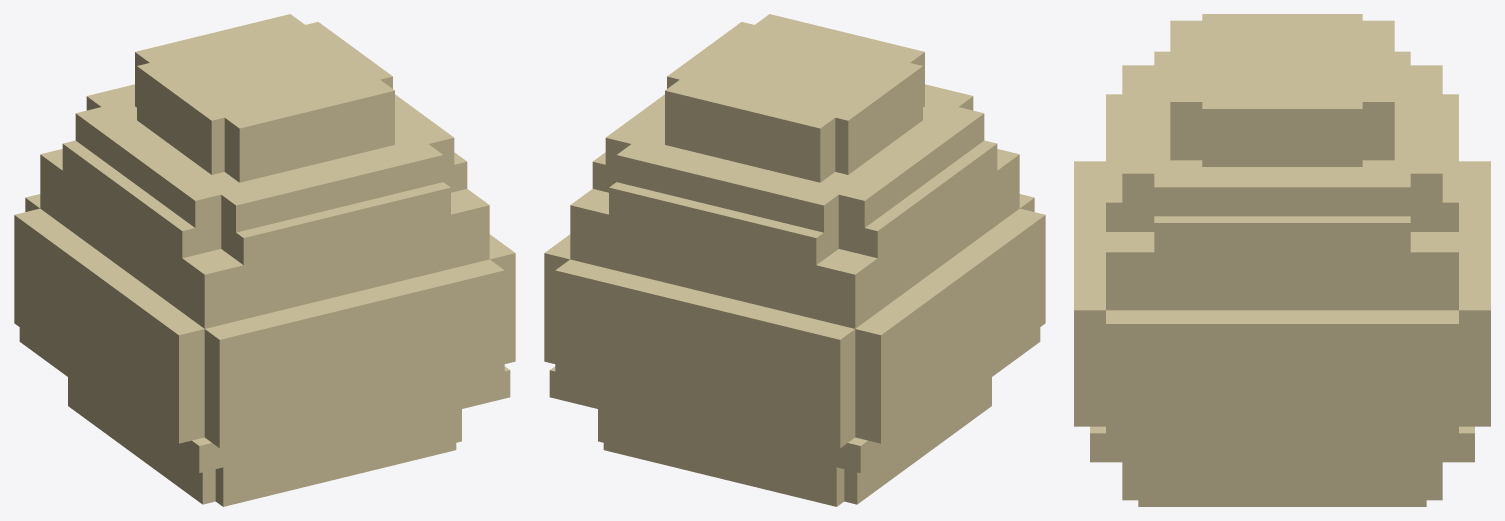
File: ingredients.vox-8-egg.obj
3 renders of one model, left to right at view 1: azimuth 30°, elevation 25°; view 2: azimuth 150°, elevation 25°; view 3: azimuth 270°, elevation 25°, orthographic. The views are drawn at different scales.
Visible parts, largest first — view 1: egg; view 2: egg; view 3: egg.
Boxes of the visible parts, <box> form: egg: <box>14,14,515,506</box>; egg: <box>544,14,1045,506</box>; egg: <box>1074,14,1490,506</box>.
Size of the model in its own units: 2.6 by 2.6 by 2.6.
Materials: 1 (1 with a texture image).
